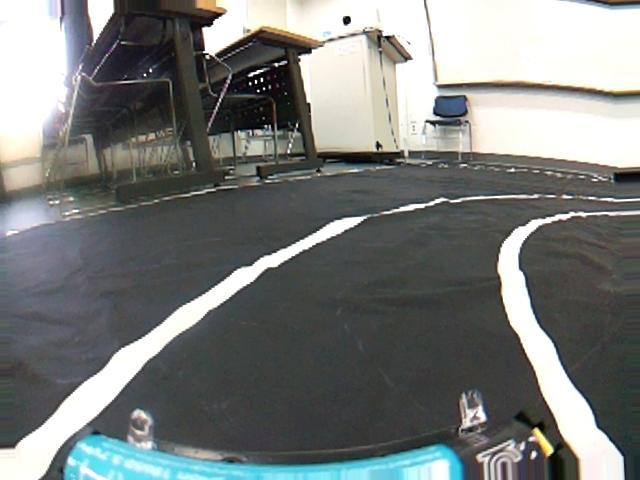straight: (4, 254, 640, 479)
